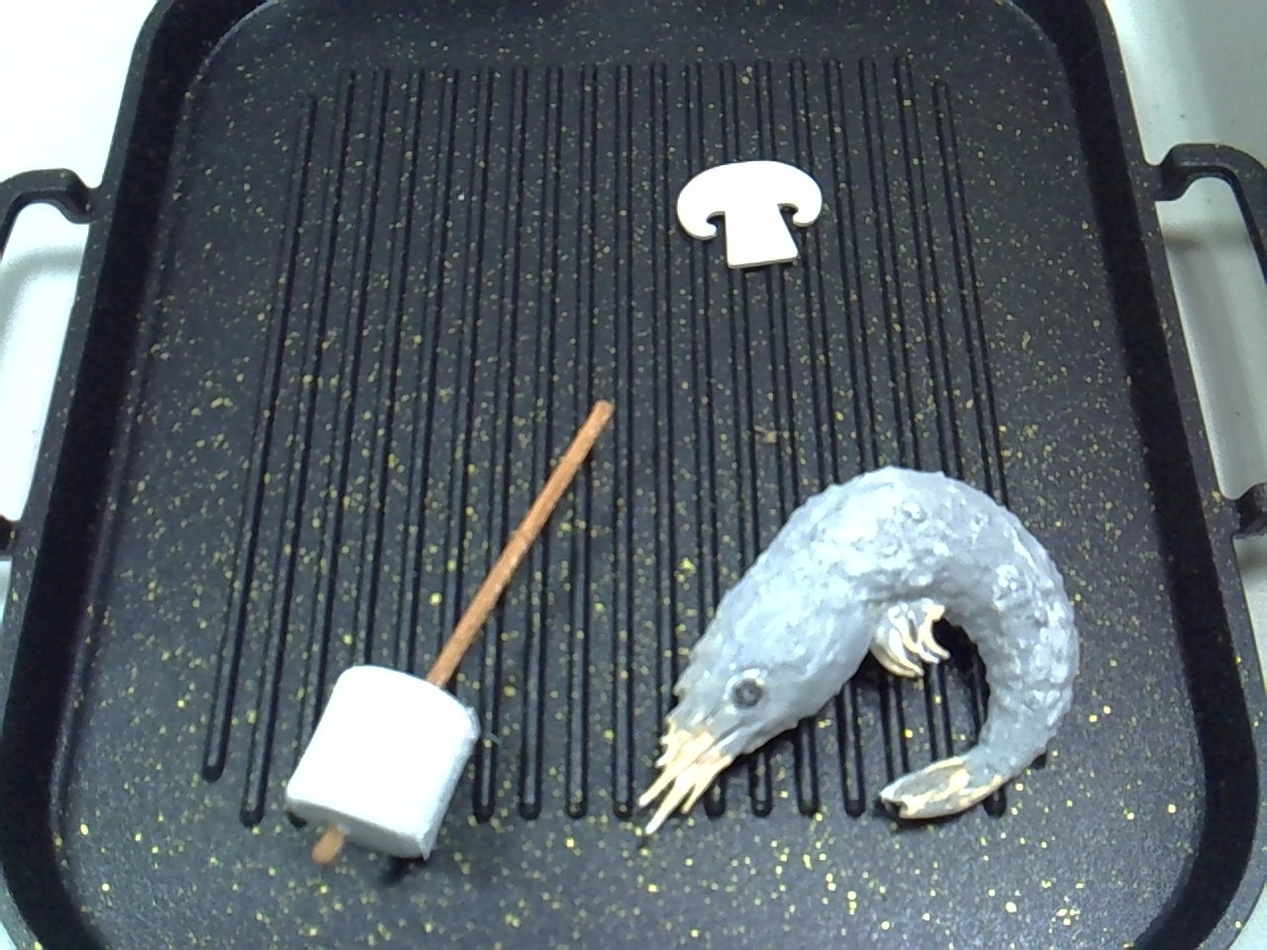MA1 0: (257, 359, 619, 903)
MU1 0: (659, 143, 835, 285)
S1 0: (640, 454, 1089, 862)
